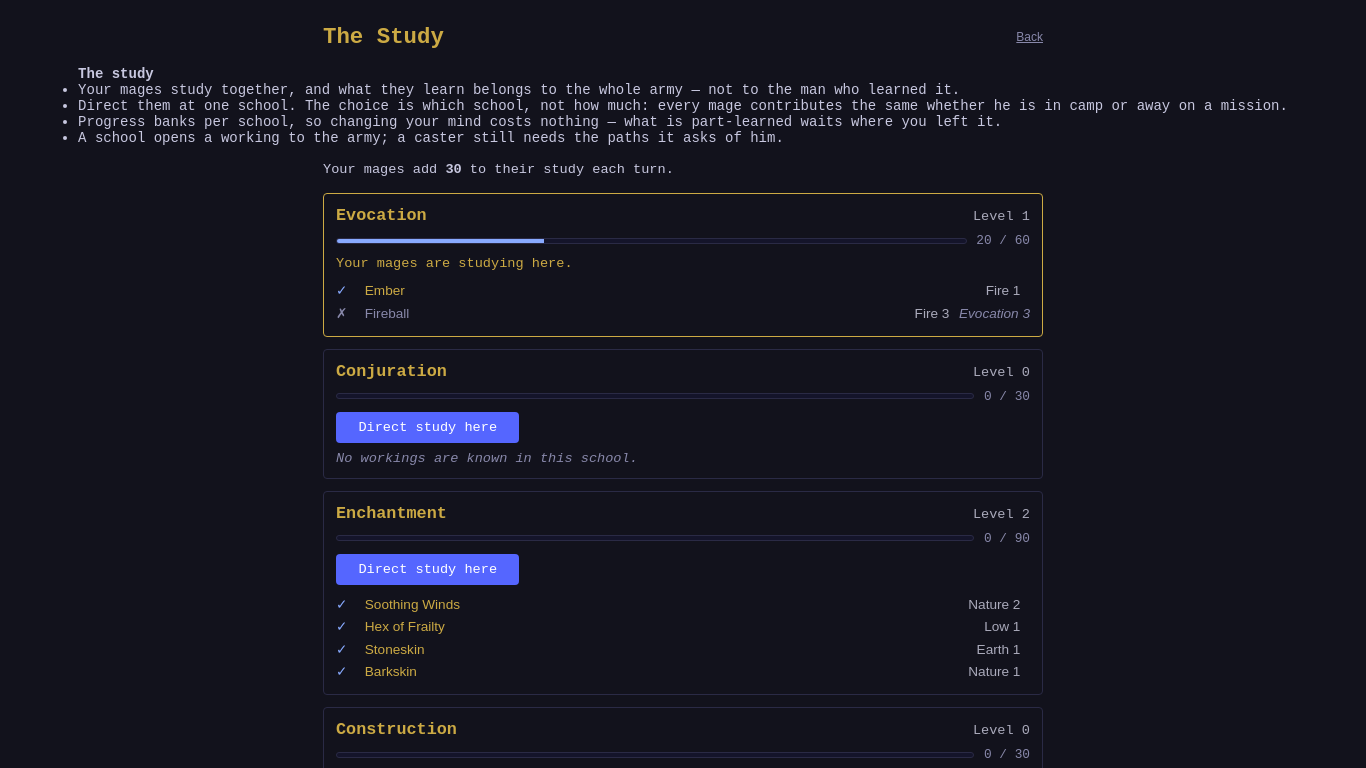
Test: The Study › T-1: a precise row says so, and every row states its range
Click the button with test id "study-spell-toggle-soothing_winds-battlefield".
click(412, 604)  # box [336,593,1030,615]
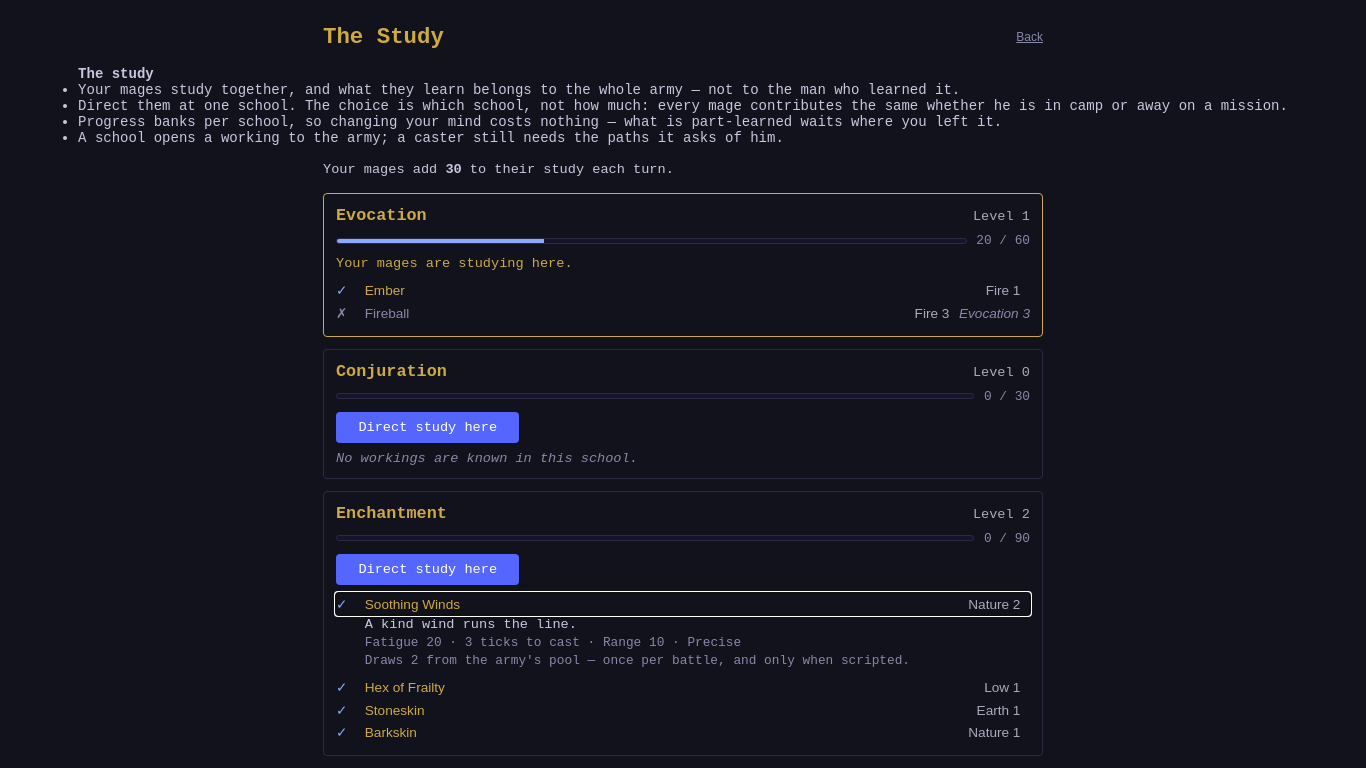
expect the element with test id "study-spell-detail-soothing_winds-battlefield" shows "Range 10": met, box [365,617,910,668]
expect the element with test id "study-spell-detail-soothing_winds-battlefield" shows "Precise": met, box [664,635,741,650]
